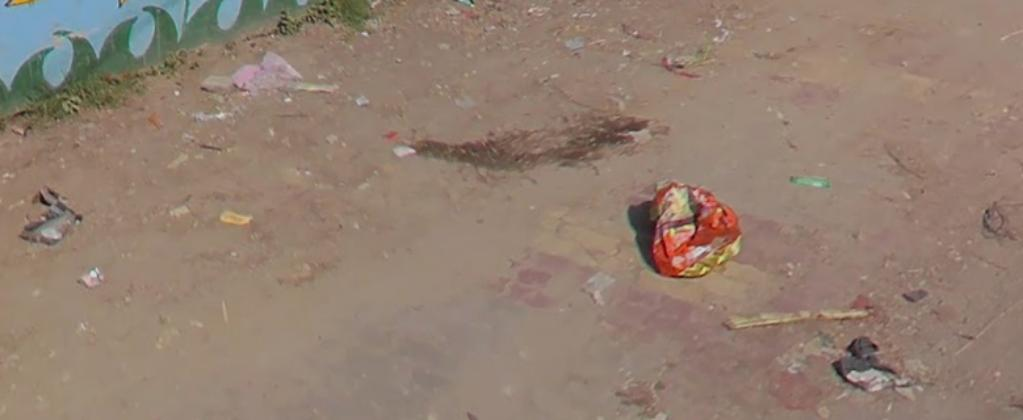garbage: (642, 170, 755, 289)
